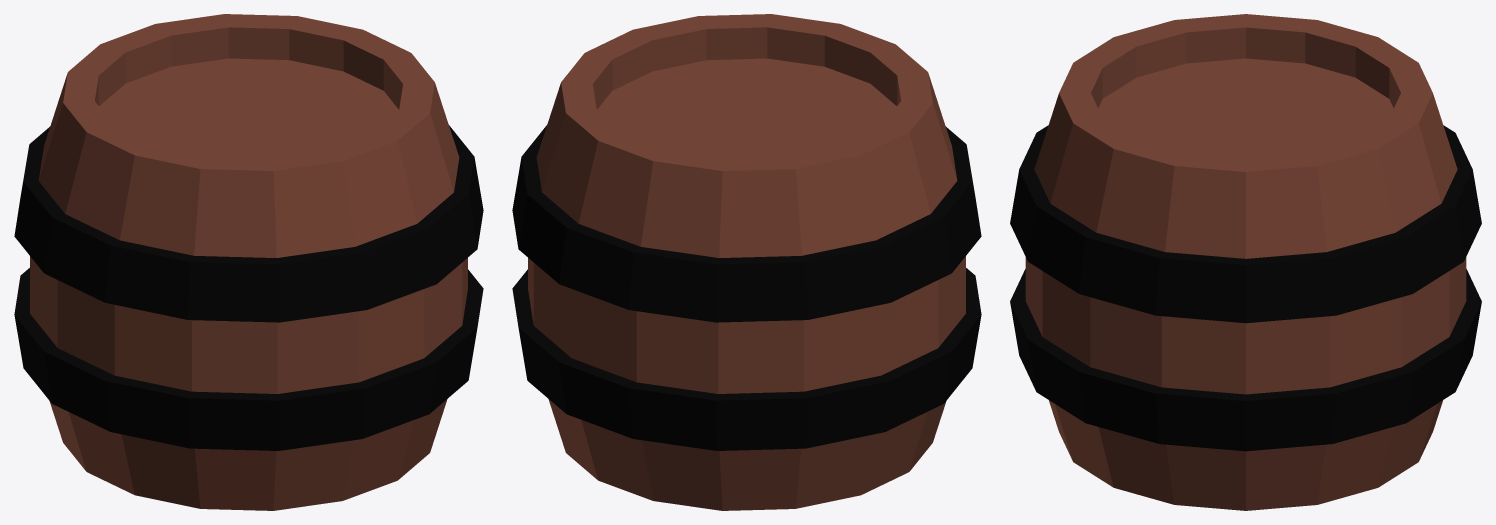
File: tynnyri.glb
3 renders of one model, left to right at view 1: azimuth 30°, elevation 25°; view 2: azimuth 150°, elevation 25°; view 3: azimuth 270°, elevation 25°, orthographic.
Parts seen in each view (by area): view 1: Cylinder; view 2: Cylinder; view 3: Cylinder.
Boxes of the visible parts, left/top/right/bottom form: Cylinder: left=14, top=14, right=483, bottom=510; Cylinder: left=512, top=14, right=981, bottom=510; Cylinder: left=1010, top=14, right=1481, bottom=510.
Bounding box in the file's own units: 2.52 × 2 × 2.52.
